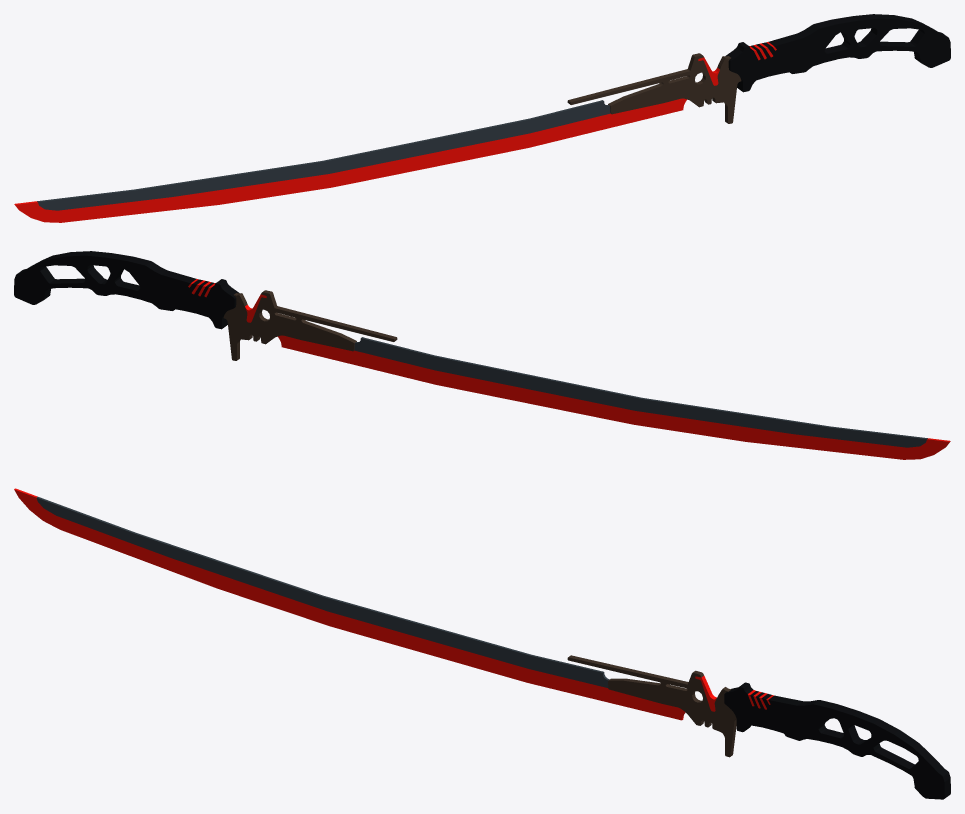
File: katana_divided_fixed_1.fbx
3 renders of one model, top to bottom at view 1: azimuth 30°, elevation 25°; view 2: azimuth 150°, elevation 25°; view 3: azimuth 330°, elevation 25°, orthographic.
Parts seen in each view (by area): view 1: 칼날1, 칼등1, 칼손잡이1, 칼등코등이1; view 2: 칼날1, 칼등1, 칼손잡이1, 칼등코등이1; view 3: 칼날1, 칼등1, 칼손잡이1, 칼등코등이1.
Part boxes in pixels (left/top/right/bottom): 칼날1: left=14, top=42, right=776, bottom=222; 칼등1: left=37, top=100, right=610, bottom=210; 칼손잡이1: left=725, top=14, right=950, bottom=92; 칼등코등이1: left=567, top=53, right=741, bottom=123; 칼날1: left=188, top=279, right=950, bottom=459; 칼등1: left=354, top=337, right=927, bottom=447; 칼손잡이1: left=14, top=251, right=239, bottom=329; 칼등코등이1: left=223, top=290, right=397, bottom=360; 칼날1: left=14, top=488, right=773, bottom=720; 칼등1: left=36, top=497, right=609, bottom=687; 칼손잡이1: left=724, top=682, right=950, bottom=799; 칼등코등이1: left=567, top=655, right=736, bottom=757.
Size of the model in its own units: 658 by 62.48 by 7.48.
